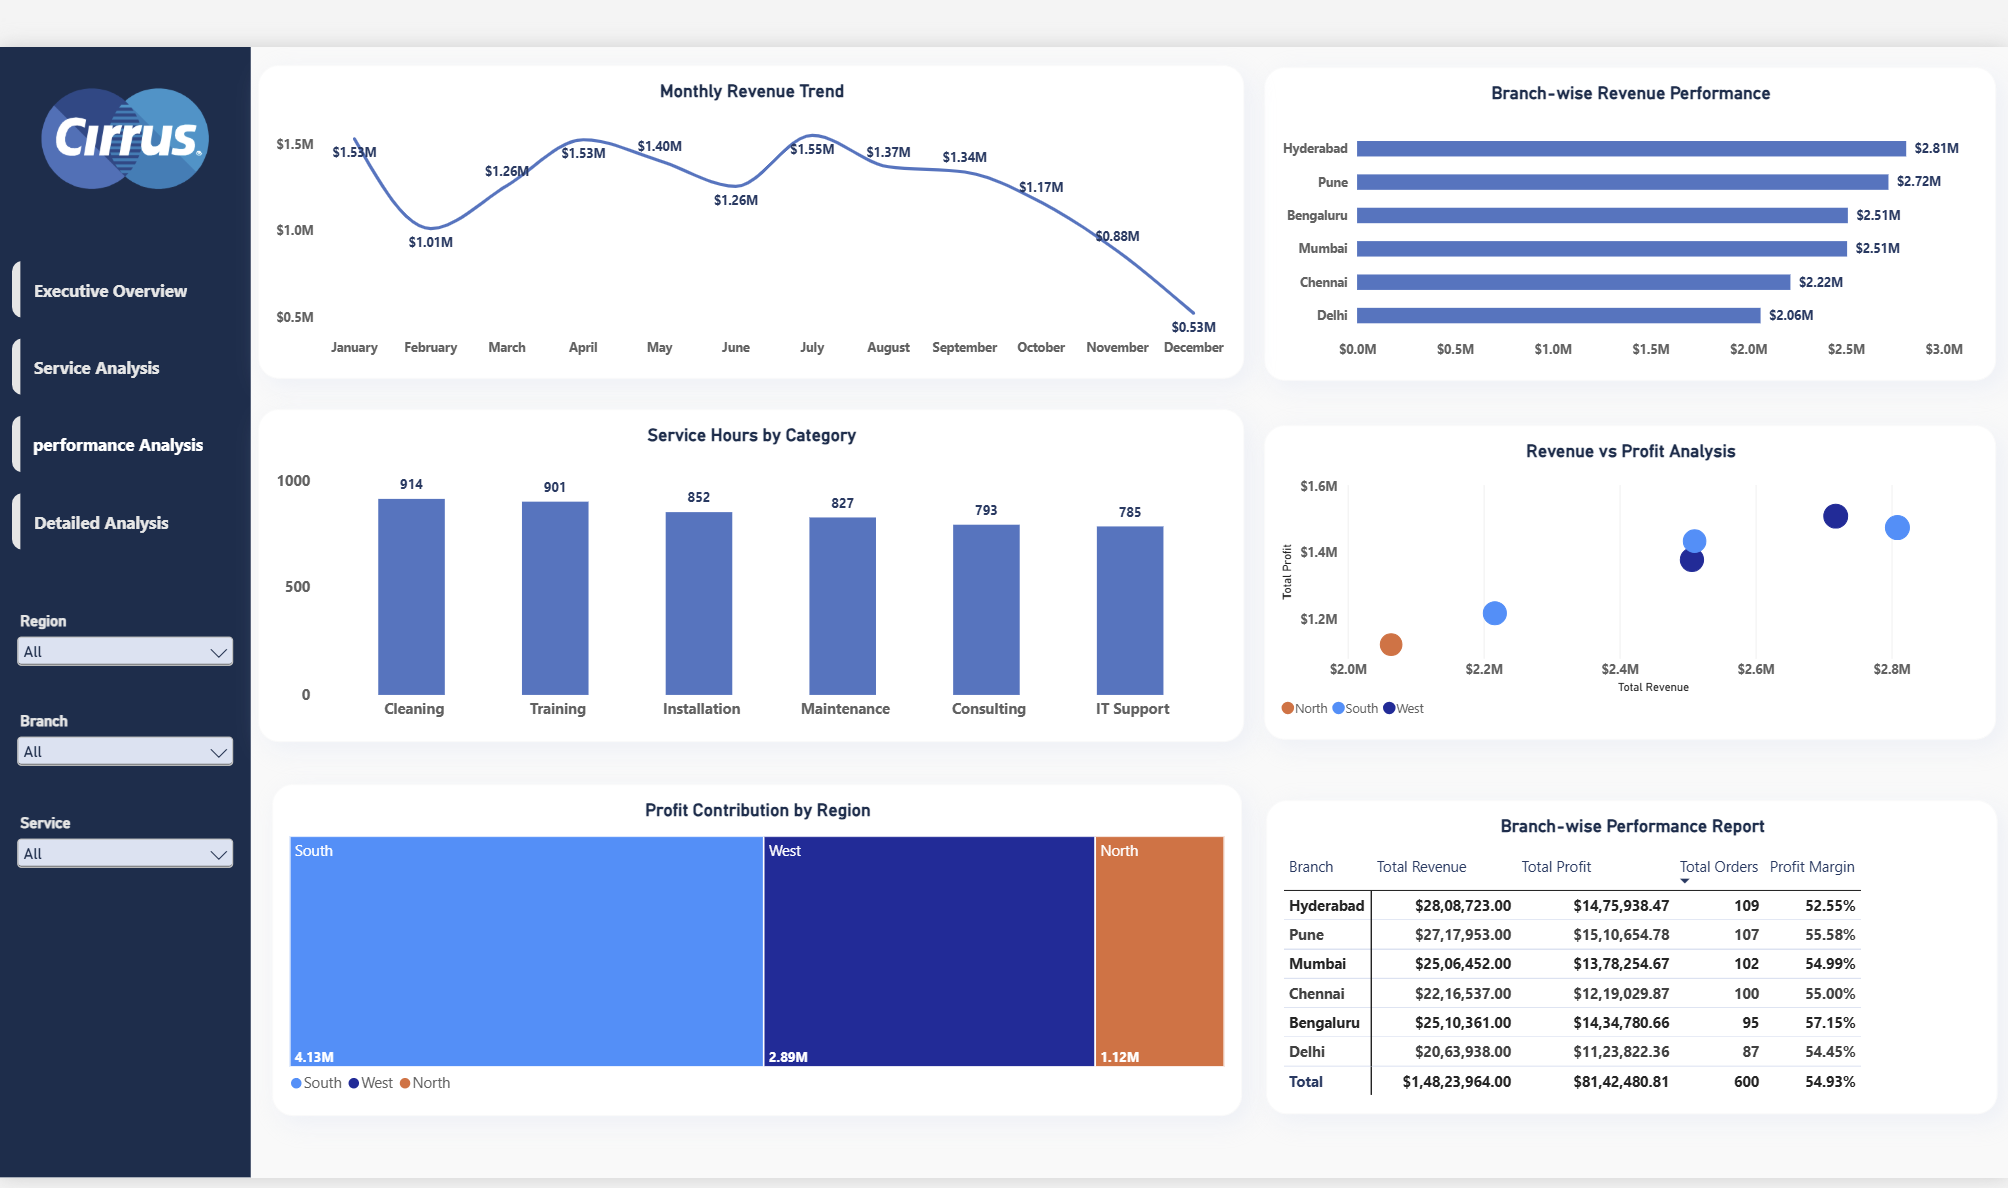

The page's visual inventory and layout, read from the dashboard file:
{"tool":"powerbi","page":{"name":"performance Analysis","canvas":[1920,1080],"ordinal":2},"visuals":[{"type":"shape","box":[0,0,239.8,1079.9],"z":0},{"type":"textbox","box":[0,733,260,300],"z":1000},{"type":"slicer","fields":{"Values":["ServiceData.Region"]},"box":[11.7,540,216.7,98.3],"z":2000},{"type":"slicer","fields":{"Values":["ServiceData.Branch"]},"box":[11.7,635,216.7,98.3],"z":3000},{"type":"slicer","fields":{"Values":["ServiceData.Service"]},"box":[11.7,733.3,216.7,91.7],"z":4000},{"type":"pageNavigator","box":[11.7,205.3,203,280],"z":5000},{"type":"image","box":[28,8,182,160],"z":6000},{"type":"clusteredBarChart","title":"Branch-wise Revenue Performance","fields":{"Category":["ServiceData.Branch"],"Y":["ServiceData.Total Revenue"]},"box":[1208.8,18.4,700,300],"z":7000},{"type":"lineChart","title":"Monthly Revenue Trend","fields":{"Category":["ServiceData.OrderDate.Variation.Date Hierarchy.Month"],"Y":["ServiceData.Total Revenue"]},"box":[247.1,16.7,942.8,300.2],"z":8000},{"type":"treemap","title":"Profit Contribution by Region","fields":{"Group":["ServiceData.Region"],"Values":["Sum(ServiceData.Profit_INR)"]},"box":[260.5,702.9,927.5,317.5],"z":9000},{"type":"clusteredColumnChart","title":"Service Hours by Category","fields":{"Category":["ServiceData.Service"],"Y":["Sum(ServiceData.ServiceHours)"]},"box":[247.1,345.6,942.8,317.5],"z":10000},{"type":"pivotTable","title":"Branch-wise Performance Report","fields":{"Rows":["ServiceData.Branch"],"Values":["ServiceData.Total Revenue","ServiceData.Total Profit","ServiceData.Total Orders","ServiceData.Profit Margin"]},"box":[1210.4,719.6,699.5,300.5],"z":11000},{"type":"scatterChart","title":"Revenue vs Profit Analysis","fields":{"Category":["ServiceData.Branch"],"Series":["ServiceData.Region"],"Size":["ServiceData.Total Orders"],"X":["ServiceData.Total Revenue"],"Y":["ServiceData.Total Profit"]},"box":[1208.8,362.3,700,300],"z":12000}]}

Visuals, with their boxes on the page's 1920x1080 design canvas (x1, y1, x2, y2). These are canvas units, not pixel positions in the 2008x1188 screenshot, which may show the page scaled, cropped or inside an application window:
shape: box(0, 0, 240, 1080)
textbox: box(0, 733, 260, 1033)
slicer - ServiceData.Region: box(12, 540, 228, 638)
slicer - ServiceData.Branch: box(12, 635, 228, 733)
slicer - ServiceData.Service: box(12, 733, 228, 825)
pageNavigator: box(12, 205, 215, 485)
image: box(28, 8, 210, 168)
"Branch-wise Revenue Performance" clusteredBarChart: box(1209, 18, 1909, 318)
"Monthly Revenue Trend" lineChart: box(247, 17, 1190, 317)
"Profit Contribution by Region" treemap: box(260, 703, 1188, 1020)
"Service Hours by Category" clusteredColumnChart: box(247, 346, 1190, 663)
"Branch-wise Performance Report" pivotTable: box(1210, 720, 1910, 1020)
"Revenue vs Profit Analysis" scatterChart: box(1209, 362, 1909, 662)
